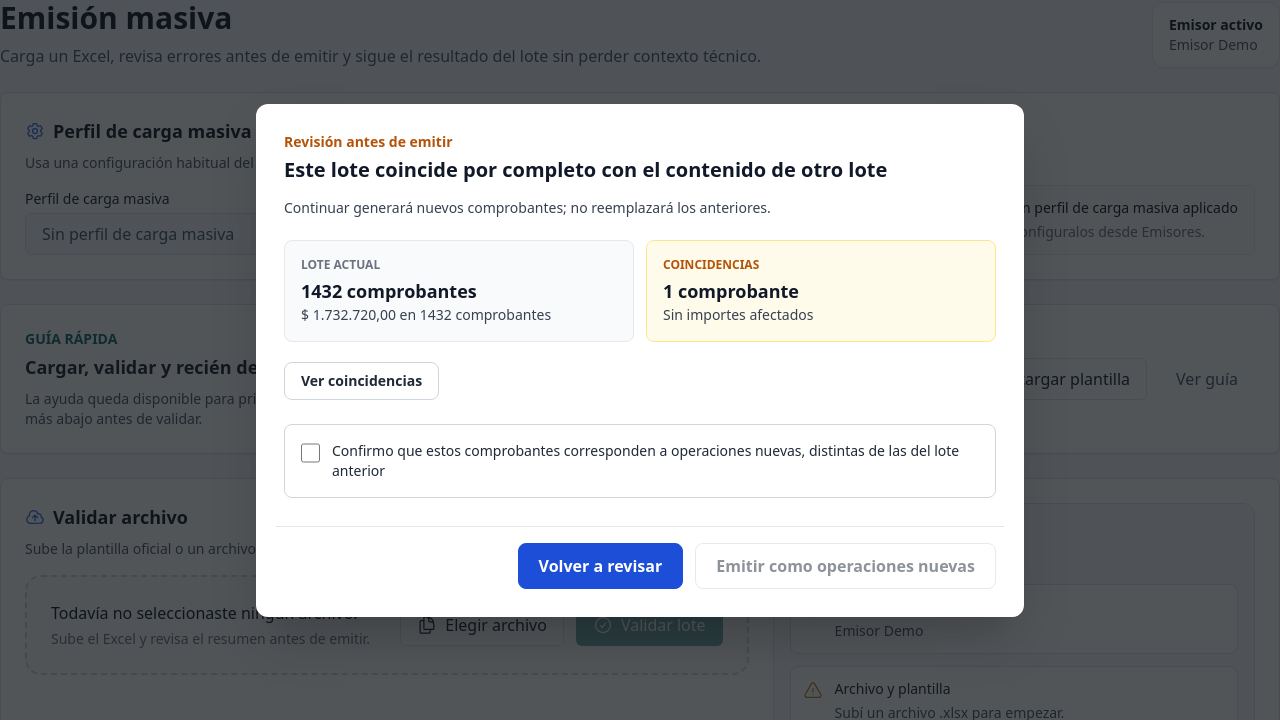
LotesComprobantesView › un GET 409 actualiza evidencia, limpia aceptación y no dispara otro POST
Click the button "Ver coincidencias".
click(362, 380)  # box [284,362,439,400]
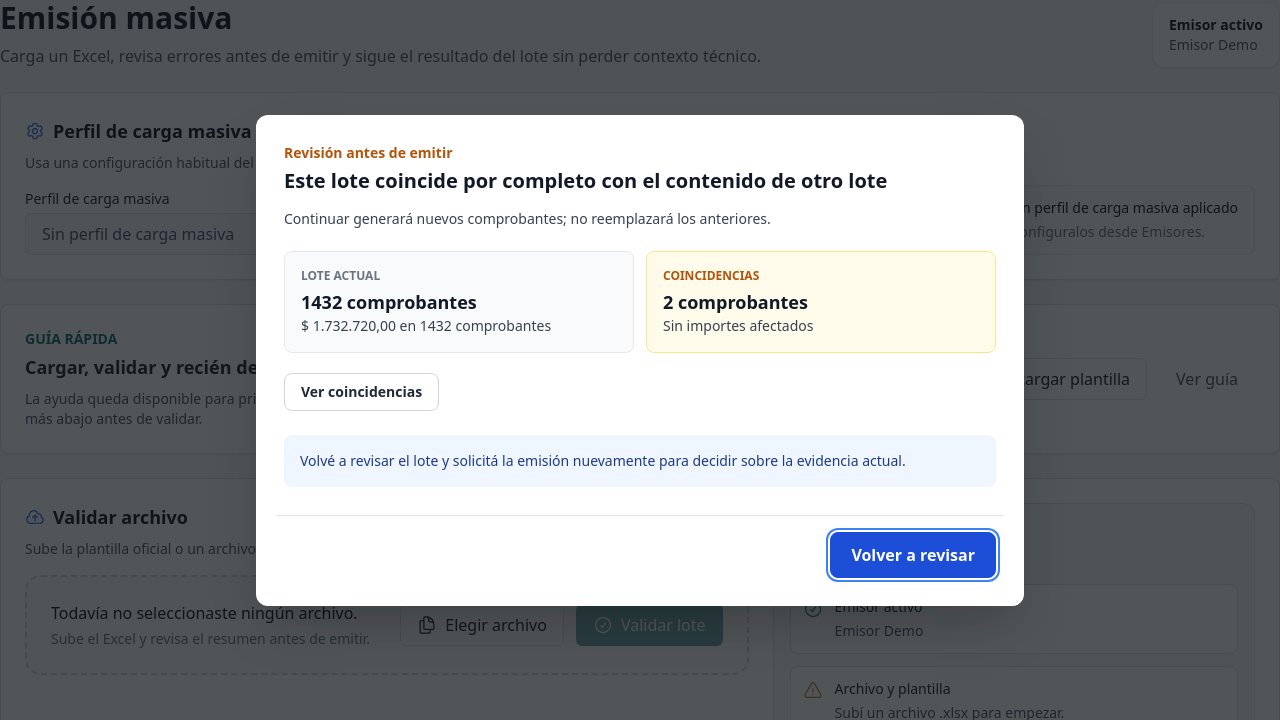
Expected: the button "Volver a revisar" is shown, [830,532,996,578]
Expected: the checkbox is gone
Expected: the text "solicitá la emisión nuevamente para decidir sobre la evidencia actual" is shown, [300,450,906,470]
